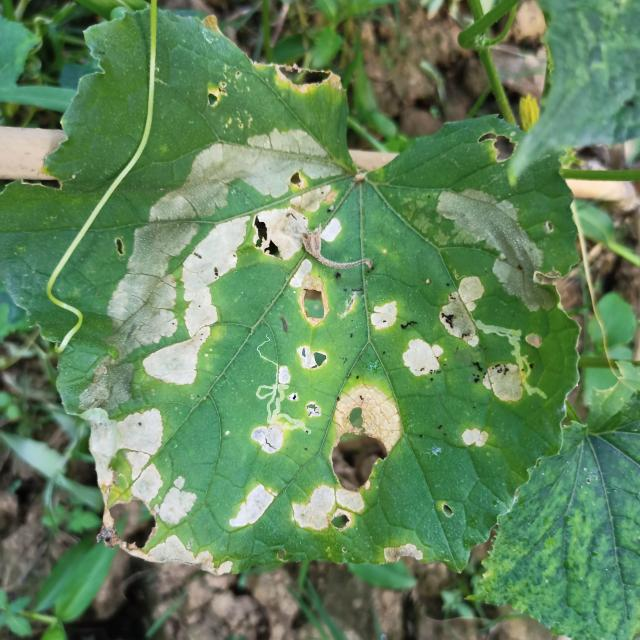disease_cucumber: (103, 120, 353, 394), (77, 398, 434, 572), (354, 180, 570, 452)
